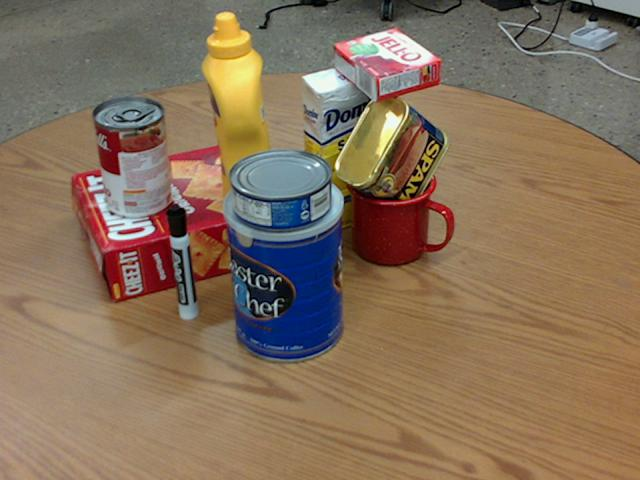cracker_box: (73, 140, 311, 302)
gelatin_box: (332, 29, 439, 101)
large_marker: (167, 205, 199, 320)
master_chef_can: (220, 168, 343, 360)
mug: (348, 158, 454, 265)
mustard_bottle: (201, 12, 278, 216)
potted_meat_can: (333, 93, 447, 217)
sugar_box: (302, 57, 396, 236)
tomato_soup_can: (92, 96, 170, 218)
tuna_fish_can: (227, 147, 331, 229)
